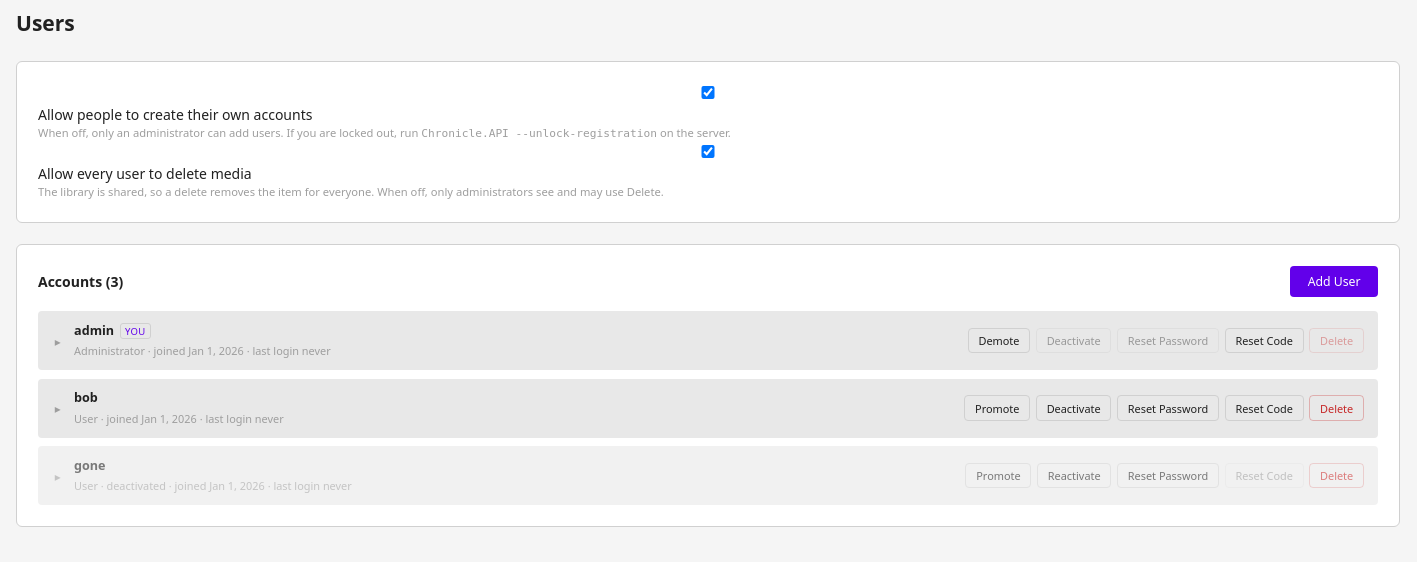
it: UsersPage reset codes › says why when the server refuses
Click the button "Reset Code" in the row of "bob" at (1264, 408), box 1225,395 -> 1304,421
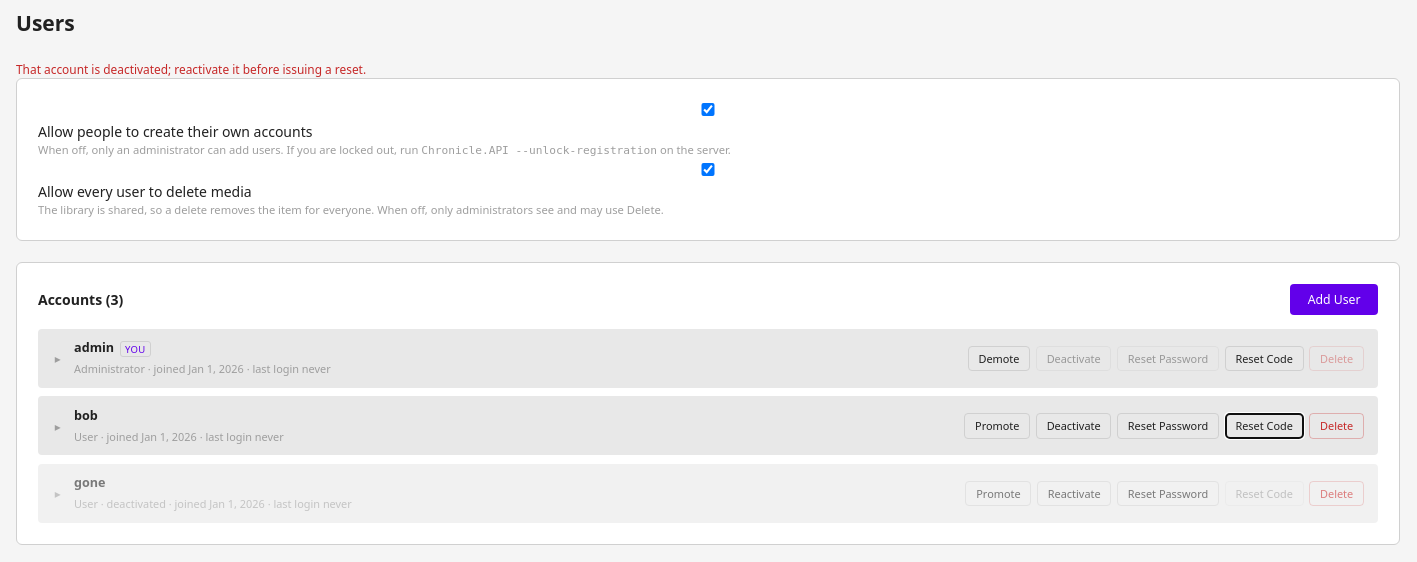
Now the text "reactivate it before issuing a reset" is shown, box 16,60 -> 366,76
